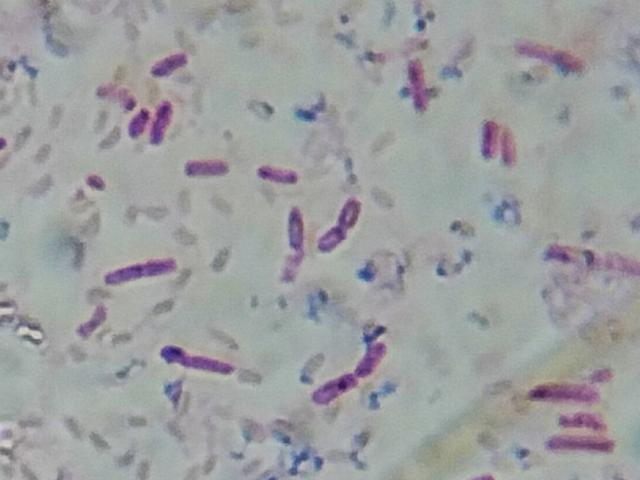E. coli: (161, 343, 240, 383), (105, 256, 184, 293), (522, 33, 581, 77), (321, 199, 360, 262), (539, 427, 618, 458), (532, 376, 597, 408), (343, 340, 390, 382), (312, 369, 359, 406), (153, 49, 196, 89), (405, 53, 434, 112), (145, 93, 172, 153), (181, 152, 233, 181), (282, 200, 306, 257), (558, 406, 610, 429), (499, 123, 521, 175), (479, 117, 504, 161), (256, 157, 295, 182), (126, 103, 148, 146)
